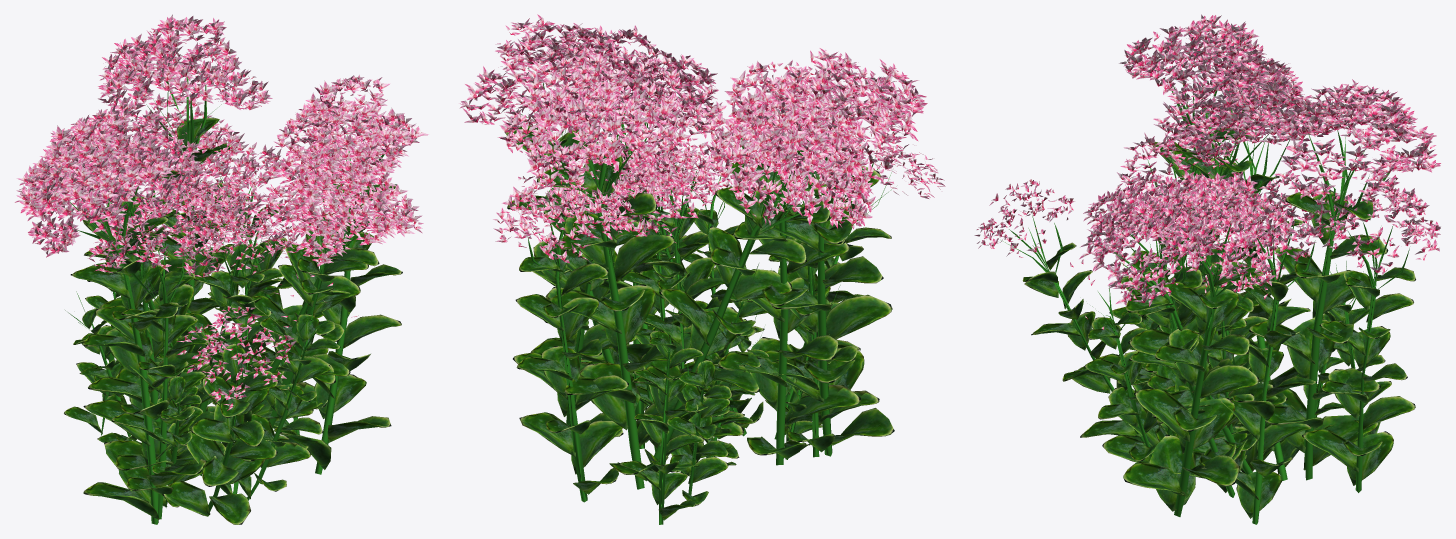
The model's file is flora-v4-min.glb.
The picture shows the model from 3 angles, left to right: view 1: azimuth 30°, elevation 25°; view 2: azimuth 150°, elevation 25°; view 3: azimuth 270°, elevation 25°; orthographic projection. The views are drawn at different scales.
Bounding box in the file's own units: 0.9962 × 0.9743 × 1.01.
Materials: 3 (2 with a texture image).
